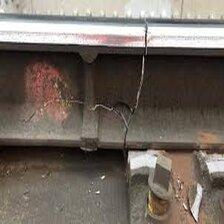railway-gap: (67, 15, 214, 157)
